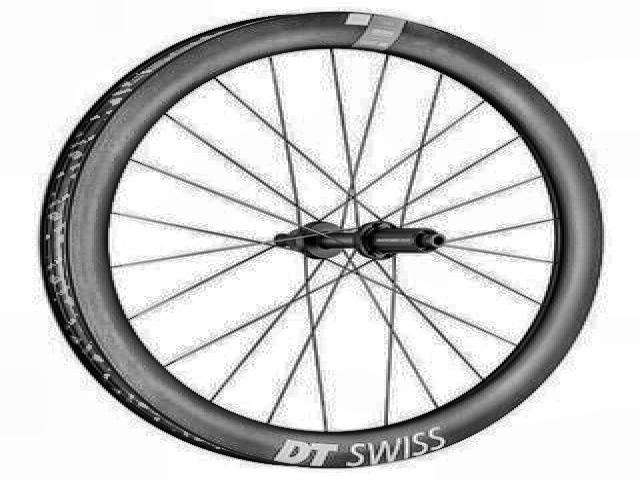wheel: (33, 6, 618, 473)
